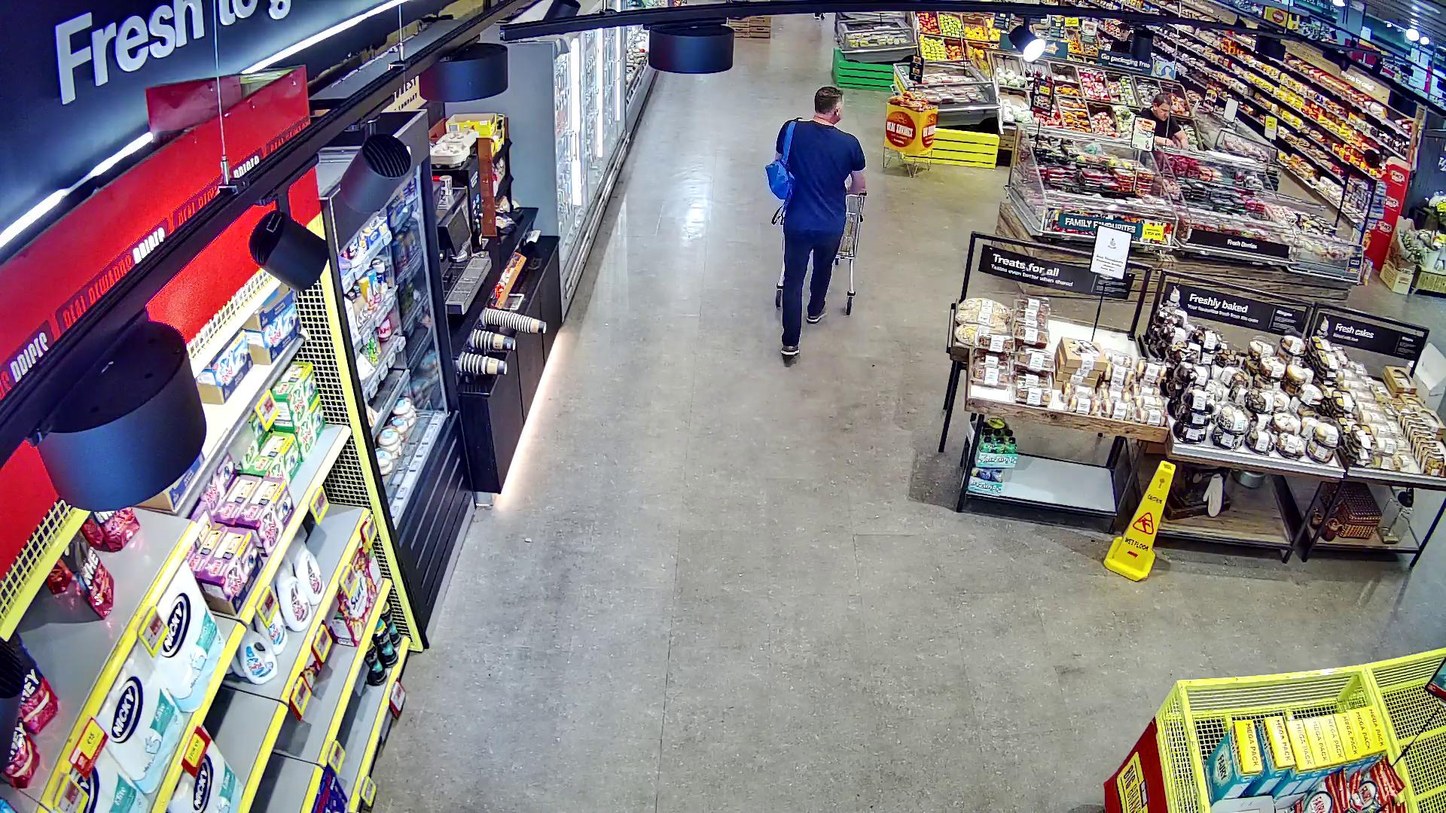backpack-or-handbag: (765, 158, 795, 201)
filled-trolly: (775, 188, 867, 314)
person: (775, 85, 866, 357)
person-with-basket-trolly-and-backpack-handbag: (765, 84, 868, 355)
